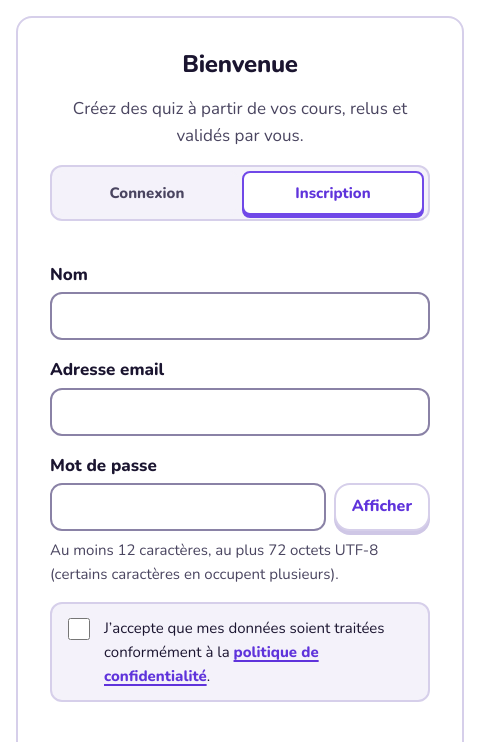
PageInscription › l’onglet Connexion ramène à la page de connexion
What coordinates should you click on to do the following:
click the link "Connexion"
I would click on:
 (147, 193)
Its box is [56, 171, 238, 215].
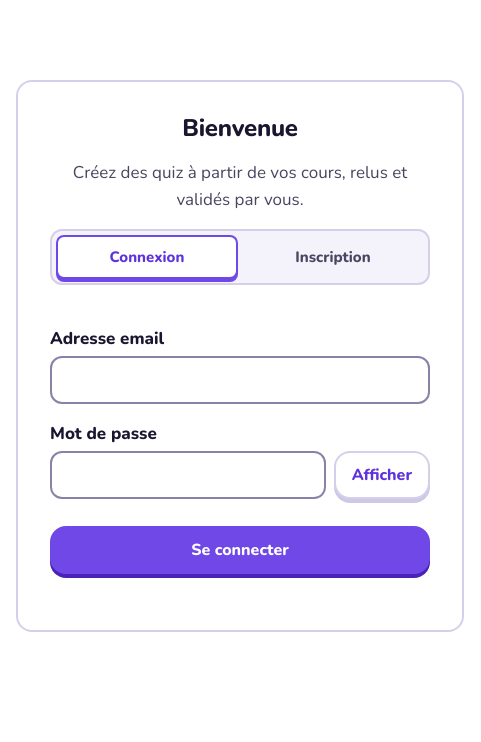
Expected: the label labelled "Nom" is gone
Expected: the button "Se connecter" is shown, [50, 526, 430, 574]
